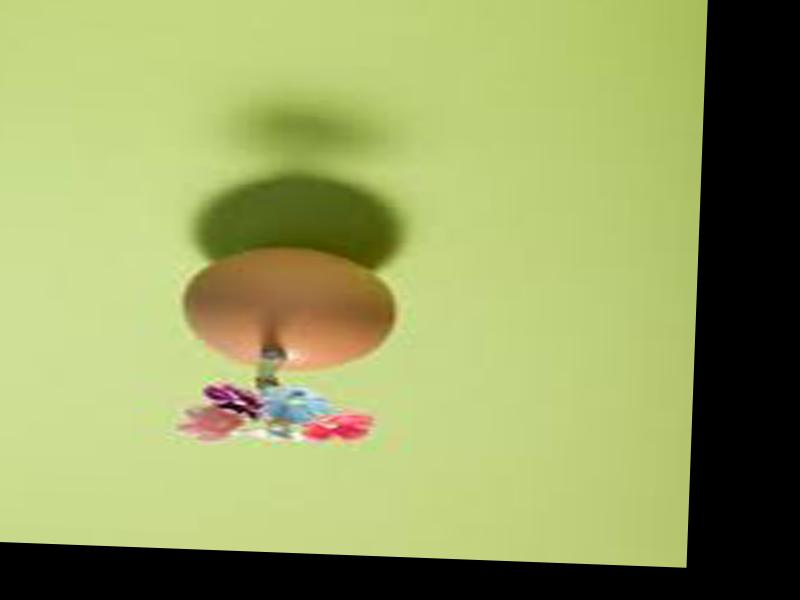Eggs: (181, 242, 396, 372)
